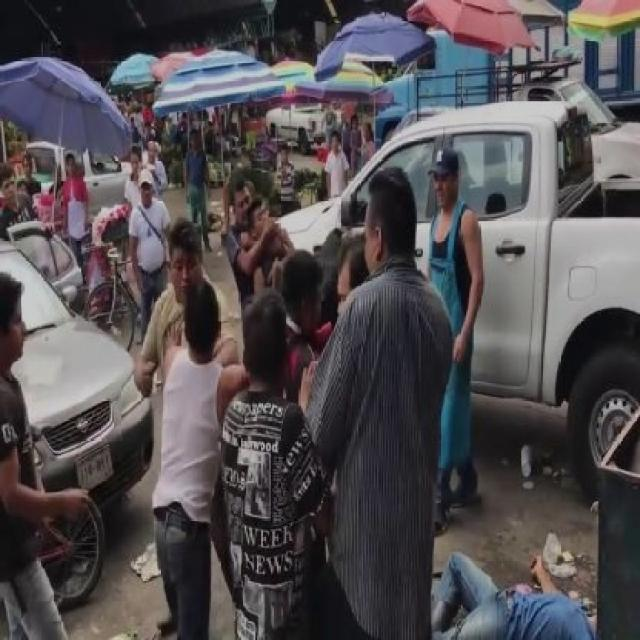fight: (302, 160, 455, 640), (132, 215, 253, 640), (215, 289, 338, 640), (0, 280, 92, 638)
non-fight: (425, 155, 485, 518)
